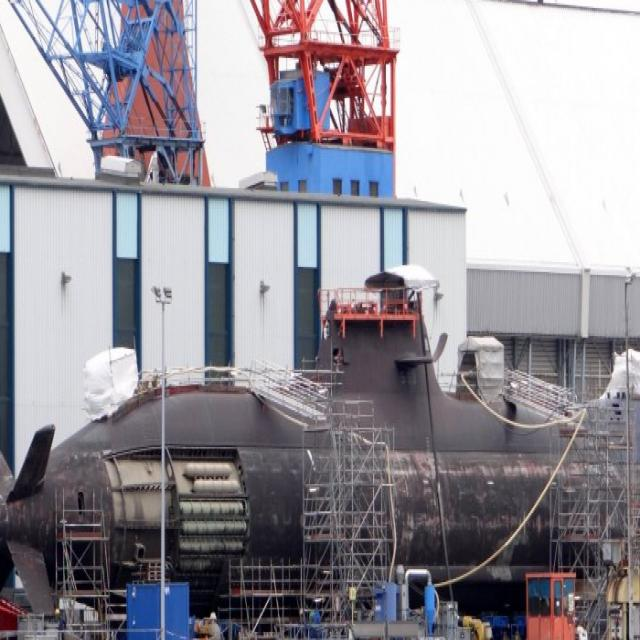submarine: (1, 306, 640, 609)
